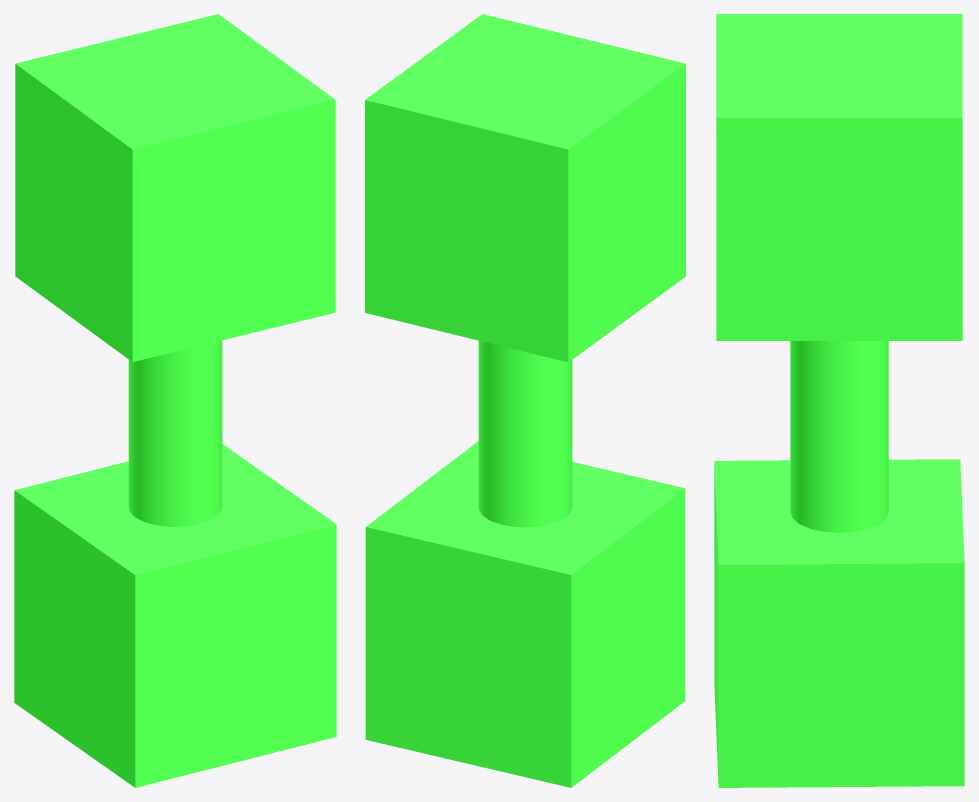
File: robot_dumbbell_green.dae
3 views of the same model, side by side, from view 1: azimuth 30°, elevation 25°; view 2: azimuth 150°, elevation 25°; view 3: azimuth 270°, elevation 25° (orthographic). The views are drawn at different scales.
Parts seen in each view (by area): view 1: dumbell; view 2: dumbell; view 3: dumbell.
Boxes of the visible parts, x1,y1,x2,y2 form: dumbell: (14,14,336,787); dumbell: (365,14,685,787); dumbell: (714,14,964,787).
Size of the model in its own units: 5.09 by 15 by 5.09.
